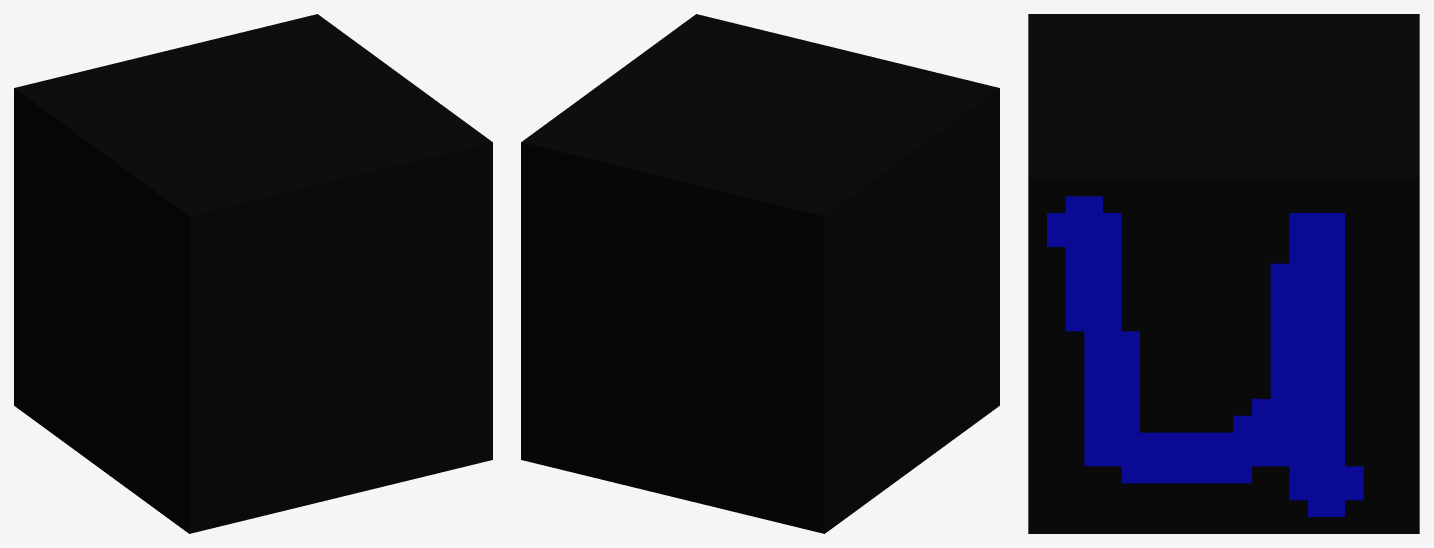
Rendered from uBox.fbx.
3 views of the same model, side by side, from view 1: azimuth 30°, elevation 25°; view 2: azimuth 150°, elevation 25°; view 3: azimuth 270°, elevation 25° (orthographic). The views are drawn at different scales.
Parts seen in each view (by area): view 1: Cube; view 2: Cube; view 3: Cube.
Boxes of the visible parts, <box> form: Cube: <box>14,14,492,533</box>; Cube: <box>521,14,999,533</box>; Cube: <box>1028,14,1419,533</box>.
Bounding box in the file's own units: 200 × 200 × 200.
